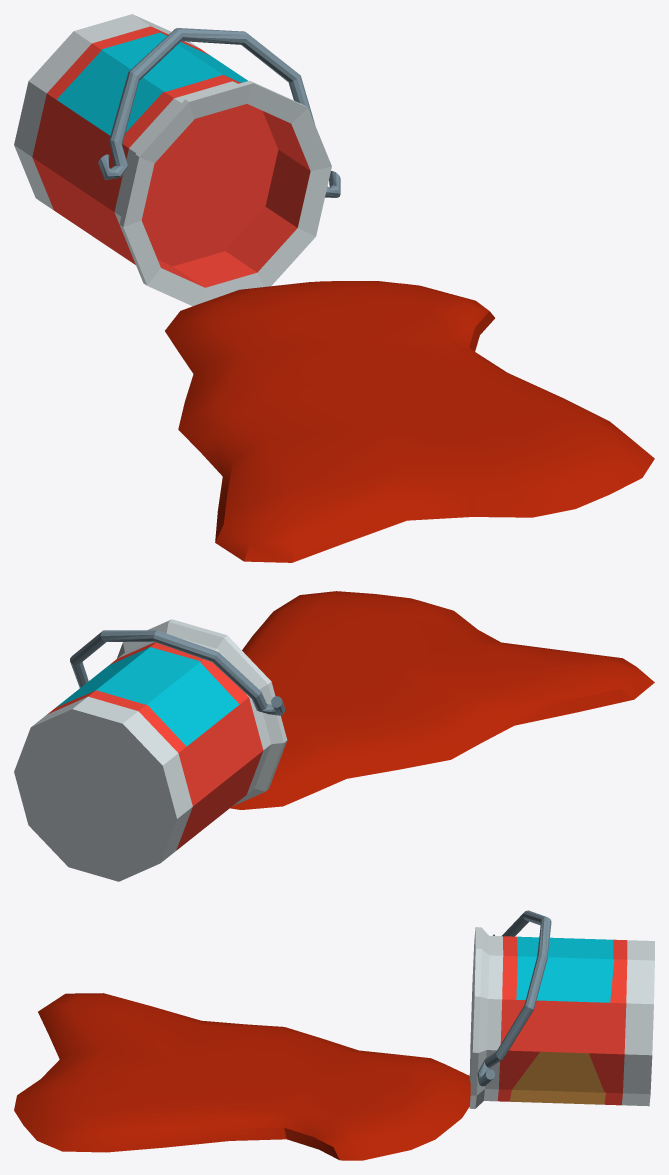
The model's file is SpilledPaintCan.gltf.
3 views of the same model, one above another, from view 1: azimuth 30°, elevation 25°; view 2: azimuth 150°, elevation 25°; view 3: azimuth 270°, elevation 25° (orthographic). The views are drawn at different scales.
Parts seen in each view (by area): view 1: TrashContainer_Open, Paint Bucket; view 2: TrashContainer_Open, Paint Bucket; view 3: TrashContainer_Open, Paint Bucket.
Boxes of the visible parts, <box> form: TrashContainer_Open: <box>165,281,654,562</box>; Paint Bucket: <box>14,14,340,306</box>; TrashContainer_Open: <box>230,591,654,809</box>; Paint Bucket: <box>14,619,287,881</box>; TrashContainer_Open: <box>14,993,470,1160</box>; Paint Bucket: <box>469,910,654,1108</box>.
Bounding box in the file's own units: 0.28 × 0.1447 × 0.4669.
